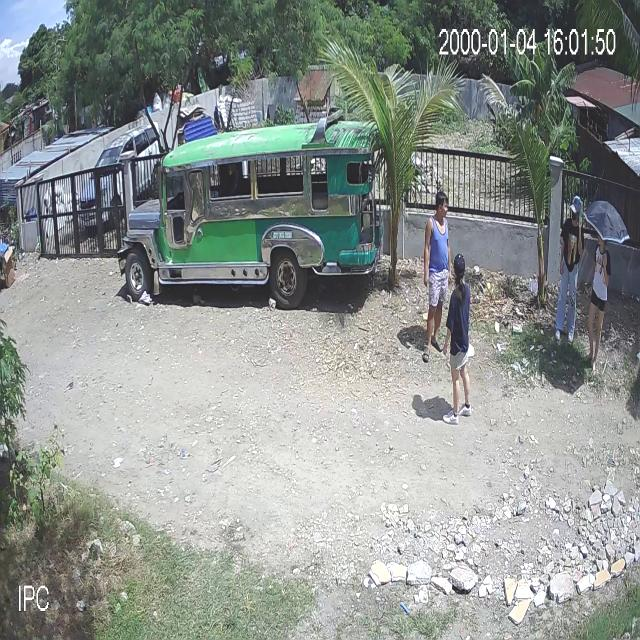standing: (441, 252, 472, 426), (420, 194, 451, 362), (554, 194, 586, 344), (584, 219, 608, 380)
